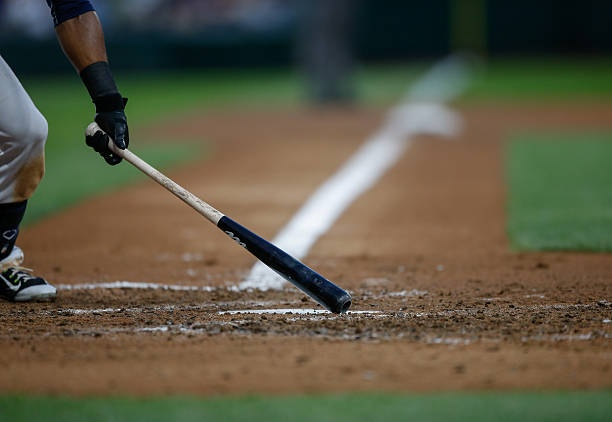bita: (92, 121, 348, 319)
